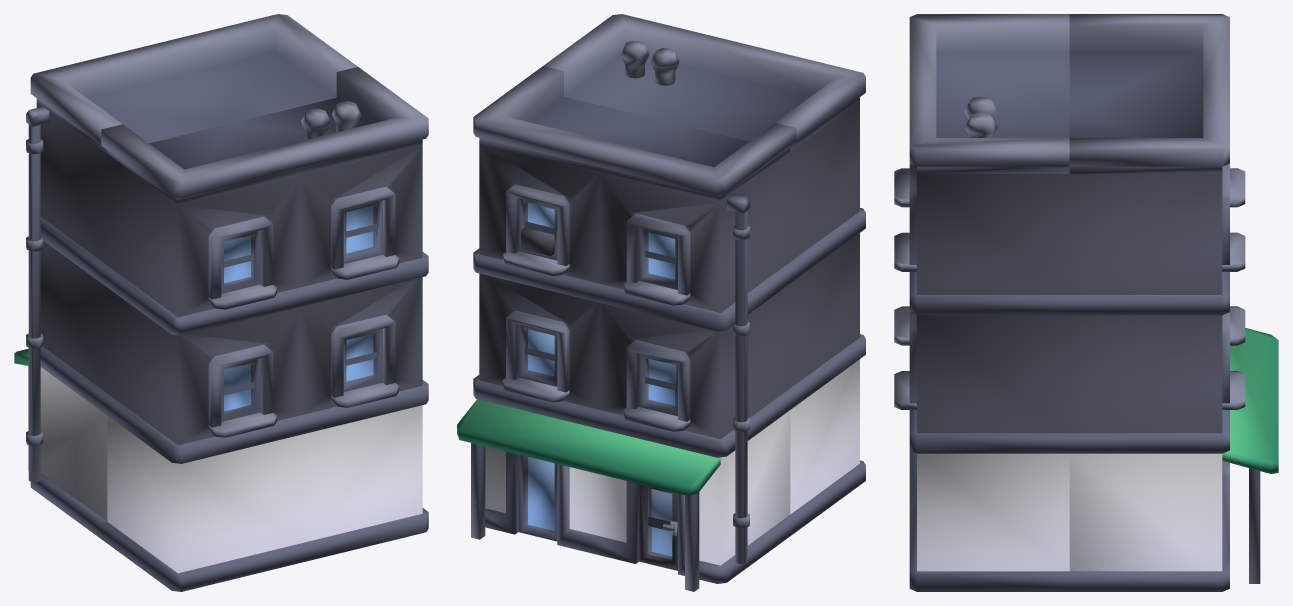
Rendered from building-h_lev1.glb.
3 views of the same model, side by side, from view 1: azimuth 30°, elevation 25°; view 2: azimuth 150°, elevation 25°; view 3: azimuth 270°, elevation 25° (orthographic). The views are drawn at different scales.
Parts seen in each view (by area): view 1: building-h_lev1; view 2: building-h_lev1; view 3: building-h_lev1.
Boxes of the visible parts, box(x1,y1,x2,y2) form: building-h_lev1: box(14, 14, 428, 591); building-h_lev1: box(457, 14, 865, 591); building-h_lev1: box(894, 14, 1278, 591).
Size of the model in its own units: 0.8836 by 1.29 by 1.01.
Materials: 1 (1 with a texture image).
